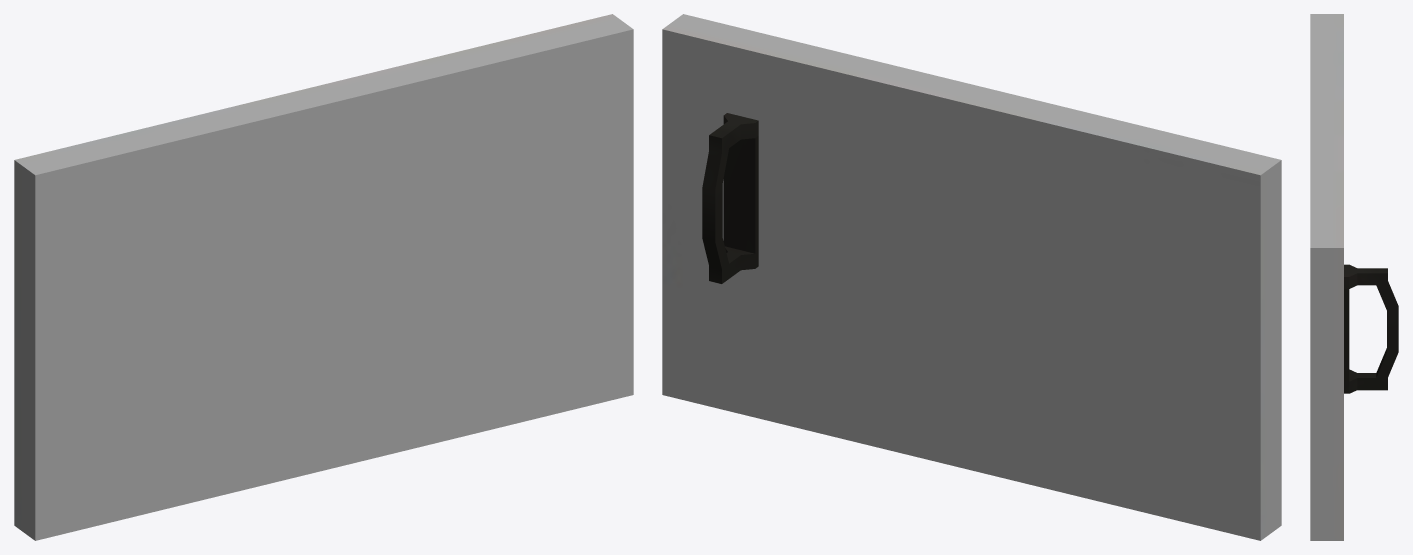
Rendered from PuertaCajon.fbx.
3 renders of one model, left to right at view 1: azimuth 30°, elevation 25°; view 2: azimuth 150°, elevation 25°; view 3: azimuth 270°, elevation 25°, orthographic. The views are drawn at different scales.
Parts seen in each view (by area): view 1: Cylinder.088; view 2: Cylinder.088; view 3: Cylinder.088.
Part boxes in pixels (bbox=[...]): Cylinder.088: bbox=[14, 14, 633, 540]; Cylinder.088: bbox=[662, 14, 1281, 540]; Cylinder.088: bbox=[1310, 14, 1398, 540].
Bounding box in the file's own units: 96.7 × 56.48 × 15.39.
